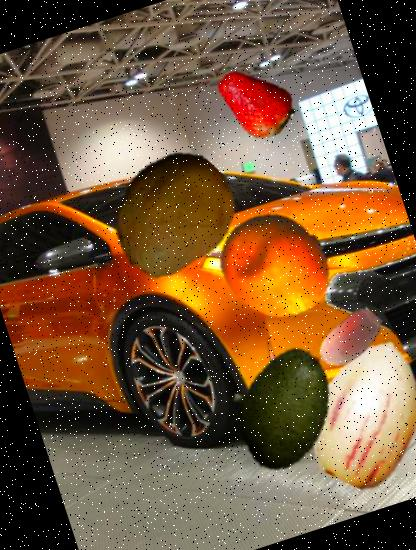Avocado: (201, 326, 360, 486)
Hazelnut: (304, 294, 394, 384)
Kumquats: (205, 195, 346, 336)
Papaya: (91, 133, 254, 297)
Pepino: (277, 320, 416, 504)
Strawberry: (203, 50, 305, 152)
